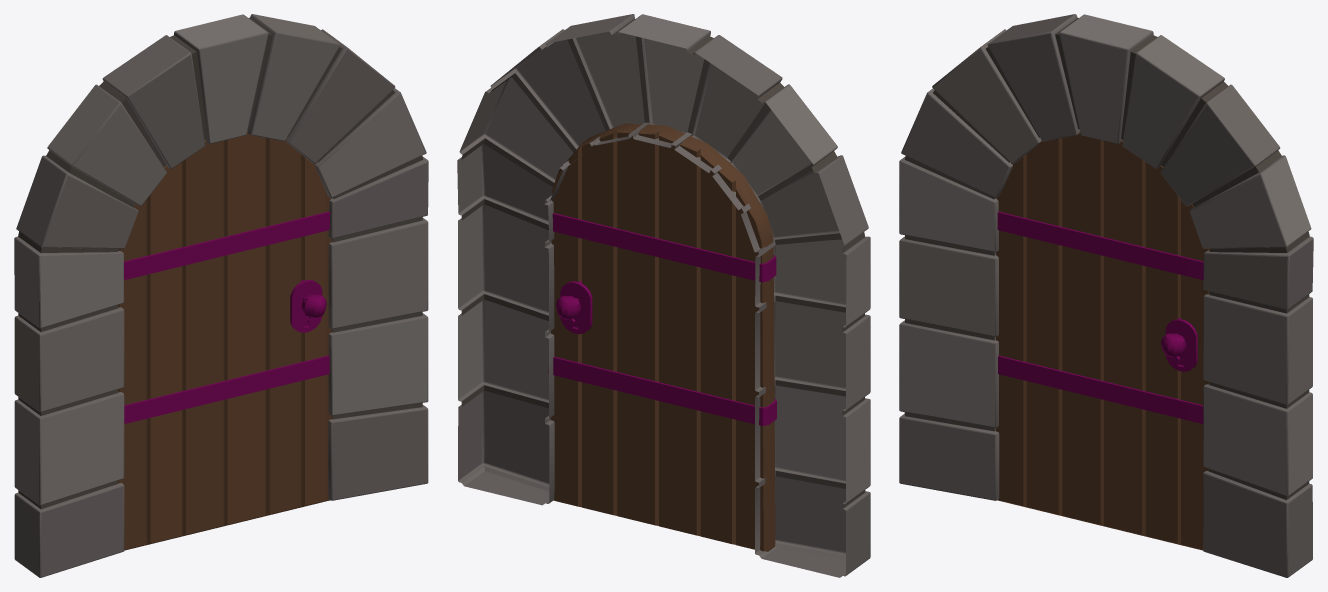
The model's file is Door pink.fbx.
The picture shows the model from 3 angles, left to right: view 1: azimuth 30°, elevation 25°; view 2: azimuth 150°, elevation 25°; view 3: azimuth 330°, elevation 25°; orthographic projection.
Visible parts, largest first — view 1: Circle, Circle.001; view 2: Circle, Circle.001; view 3: Circle, Circle.001.
Boxes of the visible parts, <box> form: Circle: <box>14,14,428,577</box>; Circle.001: <box>118,130,332,550</box>; Circle: <box>457,14,870,577</box>; Circle.001: <box>548,123,776,551</box>; Circle: <box>899,14,1313,577</box>; Circle.001: <box>995,130,1209,550</box>.
Size of the model in its own units: 2.6 by 3.15 by 0.4765.
